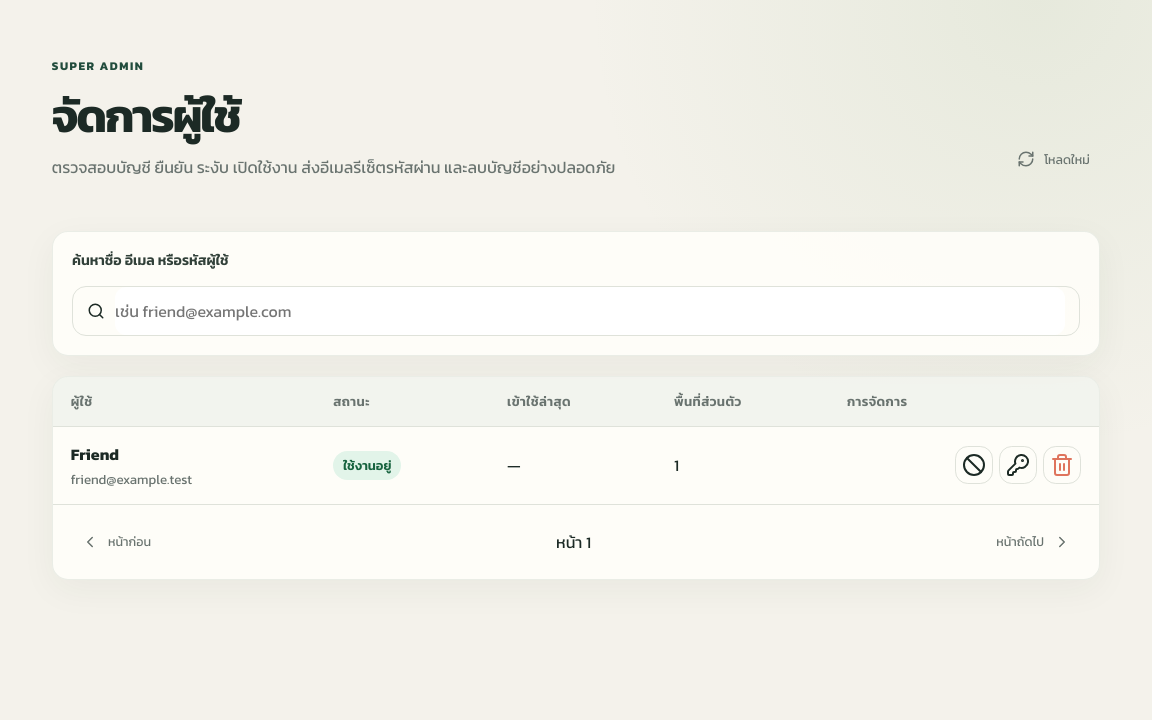
Test: Super Admin users page › confirms reset intent and reports success without a token
Click the button named "ส่งรีเซ็ตรหัสผ่าน" at (1018, 465), box [999,446,1037,484]
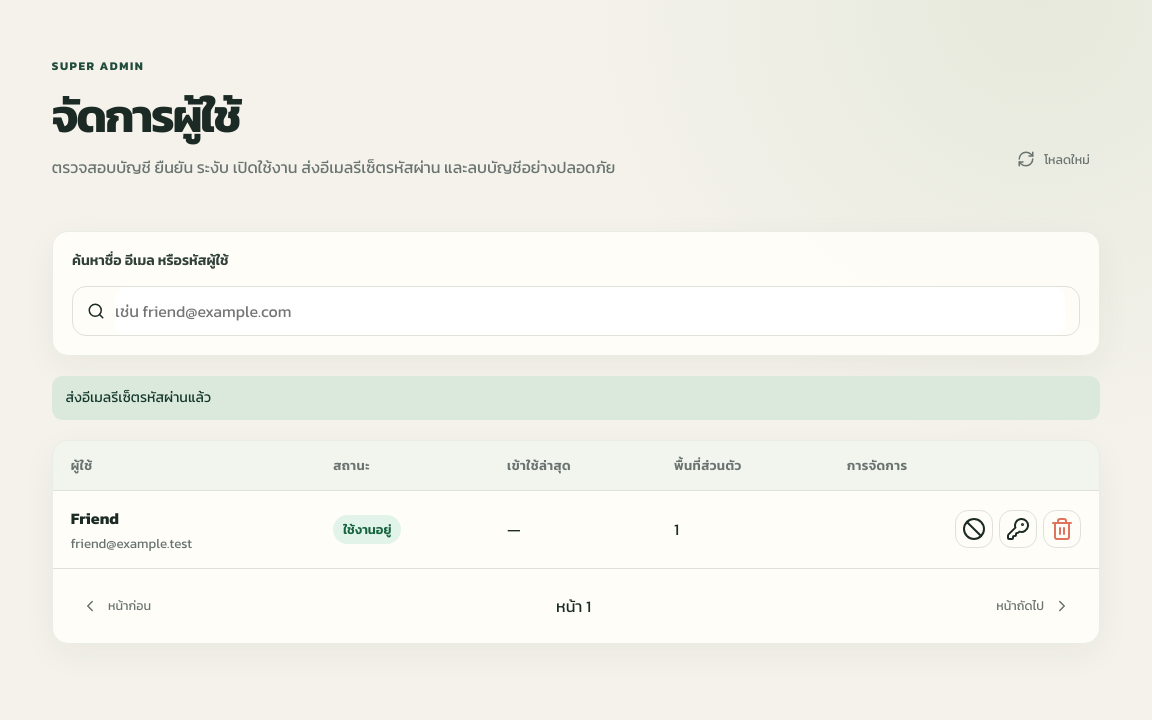
Check: the message "ส่งอีเมลรีเซ็ตรหัสผ่านแล้ว" is shown, box [52,376,1100,420]
